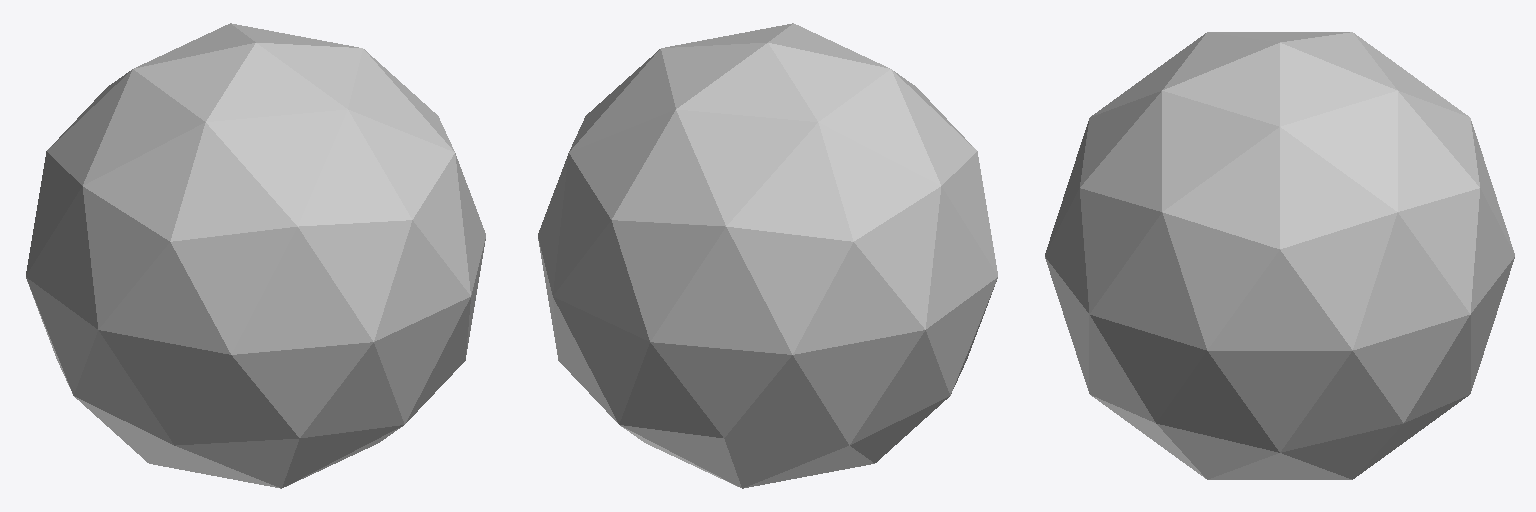
Rendered from snowball.obj.
3 renders of one model, left to right at view 1: azimuth 30°, elevation 25°; view 2: azimuth 150°, elevation 25°; view 3: azimuth 270°, elevation 25°, orthographic.
Visible parts, largest first — view 1: snowball; view 2: snowball; view 3: snowball.
Part boxes in pixels (x1,y1,x2,y2): snowball: (26, 23, 485, 488); snowball: (538, 23, 997, 488); snowball: (1045, 32, 1514, 479).
Bounding box in the file's own units: 0.2853 × 0.3 × 0.3.